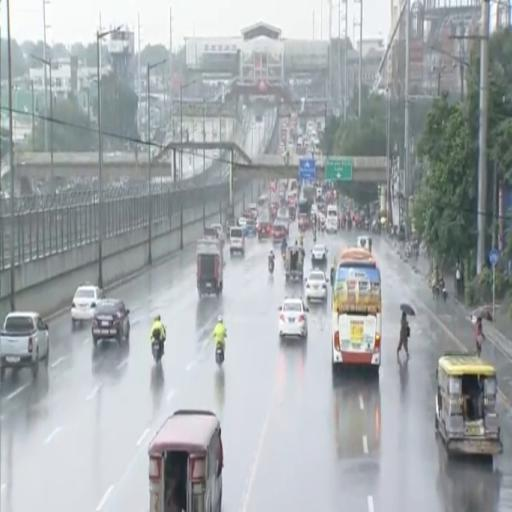bus: (332, 248, 381, 373), (258, 195, 269, 207)
car: (92, 299, 130, 346), (71, 283, 103, 329), (279, 298, 308, 339), (305, 270, 328, 300), (272, 221, 287, 243), (312, 245, 327, 266), (211, 223, 224, 243), (238, 217, 247, 234)
jeepney: (149, 410, 223, 511), (435, 352, 502, 455)
motorcycle: (151, 339, 164, 364), (216, 344, 224, 365), (439, 280, 447, 301), (268, 259, 274, 274), (313, 231, 316, 243)
truck: (0, 312, 49, 379), (197, 237, 223, 297), (257, 205, 272, 239)
